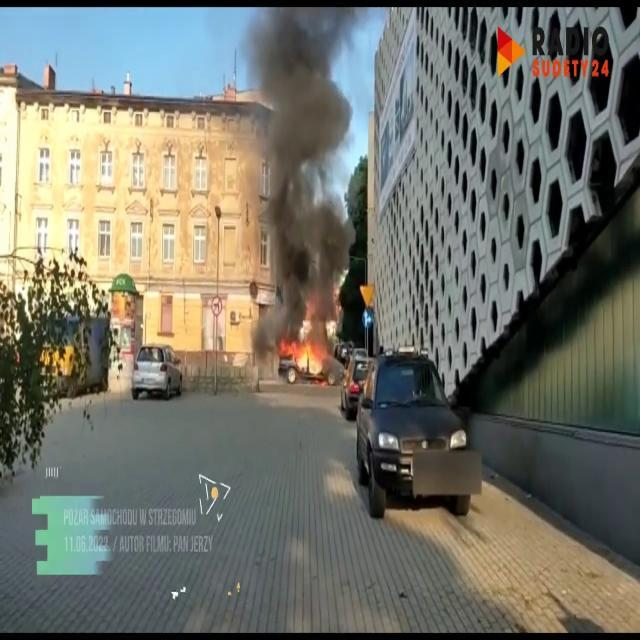Fire: (280, 325, 328, 381)
Smoke: (242, 4, 360, 310)
